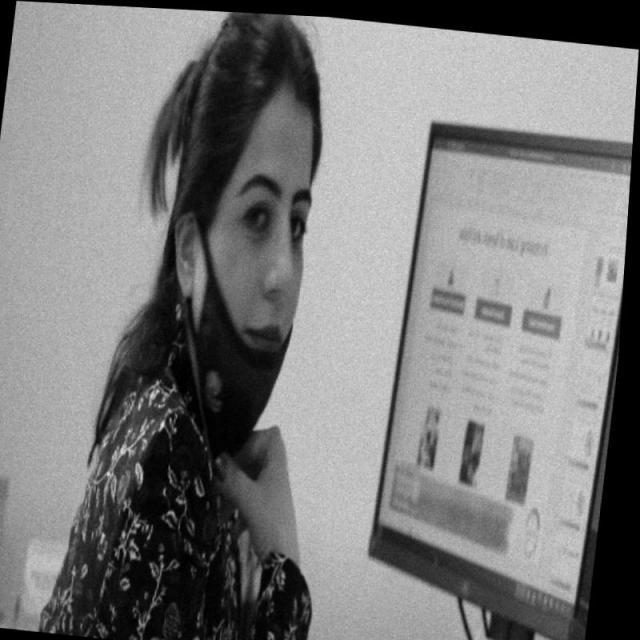hairnet: (194, 160, 316, 434)
